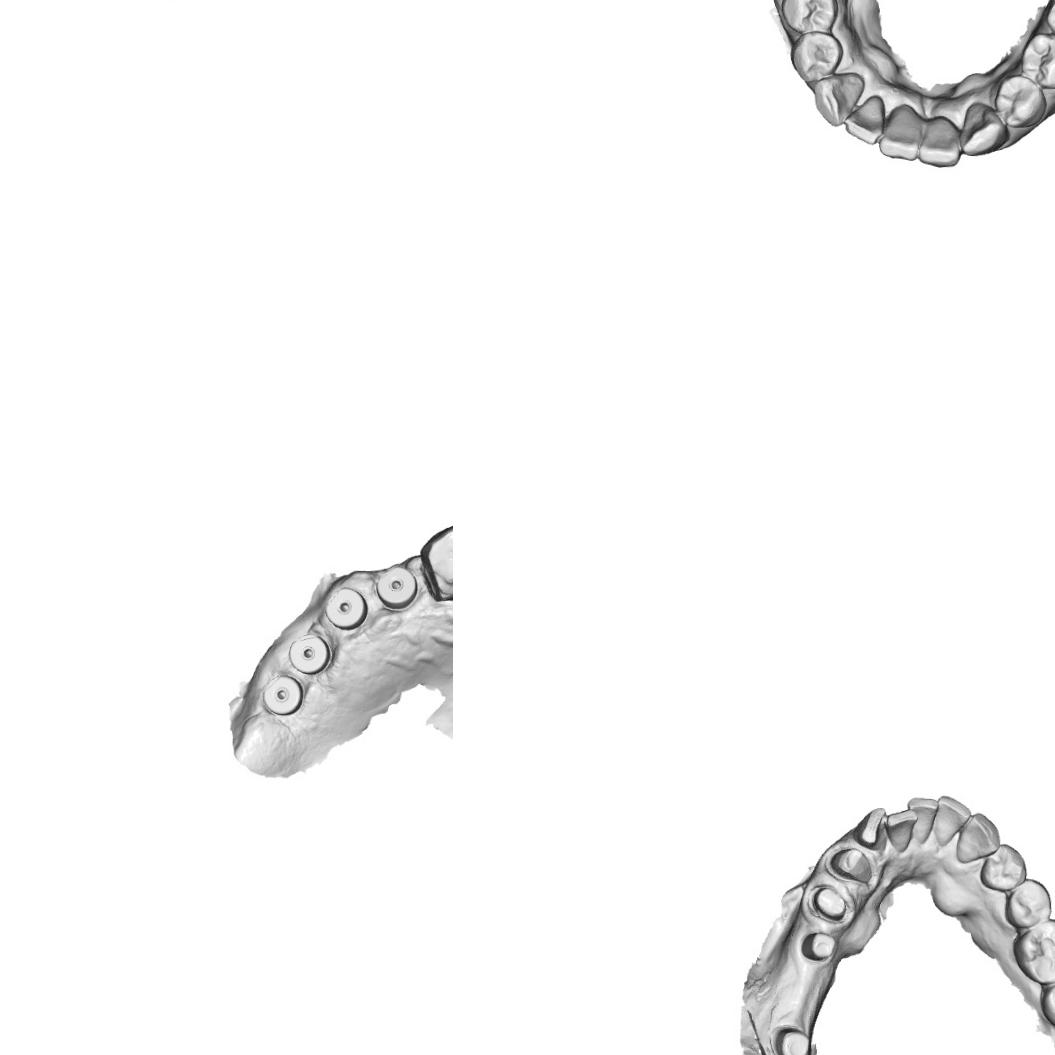abutment: (772, 1022, 813, 1055), (800, 928, 837, 963)
canine: (811, 69, 866, 129), (959, 98, 1010, 158), (421, 520, 453, 605), (954, 810, 1002, 865)
crown: (824, 845, 876, 886), (805, 882, 852, 924)
implant: (260, 669, 307, 718), (324, 584, 368, 626), (376, 564, 416, 604), (290, 633, 326, 672)
incisor: (916, 113, 965, 169), (876, 102, 922, 161), (843, 92, 890, 146), (930, 794, 973, 849), (904, 794, 940, 846), (882, 806, 920, 854), (852, 804, 887, 854)
molar: (1011, 916, 1055, 986), (1039, 973, 1055, 1032)
premolar: (992, 72, 1050, 130), (788, 30, 845, 86), (1004, 876, 1054, 931), (978, 840, 1029, 893), (1018, 30, 1055, 92), (778, 0, 841, 35)
